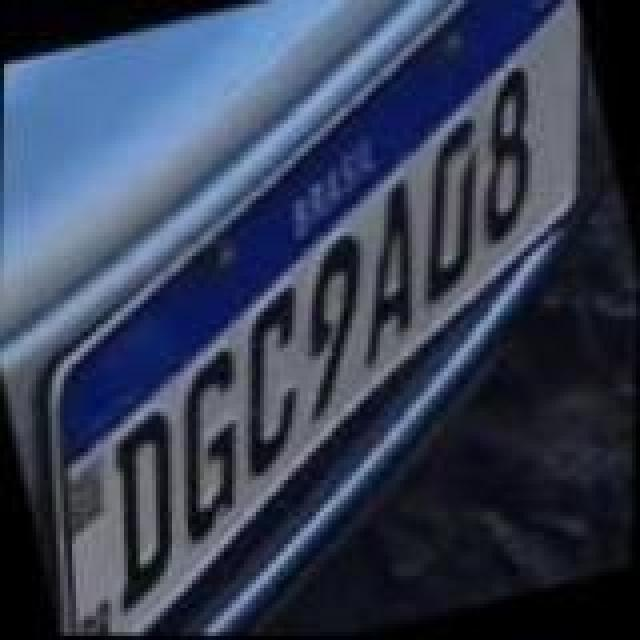8: (446, 62, 566, 246)
9: (268, 228, 400, 428)
A: (318, 178, 446, 378)
C: (206, 278, 338, 482)
D: (76, 404, 216, 620), (380, 114, 516, 310)
G: (144, 344, 280, 552)
